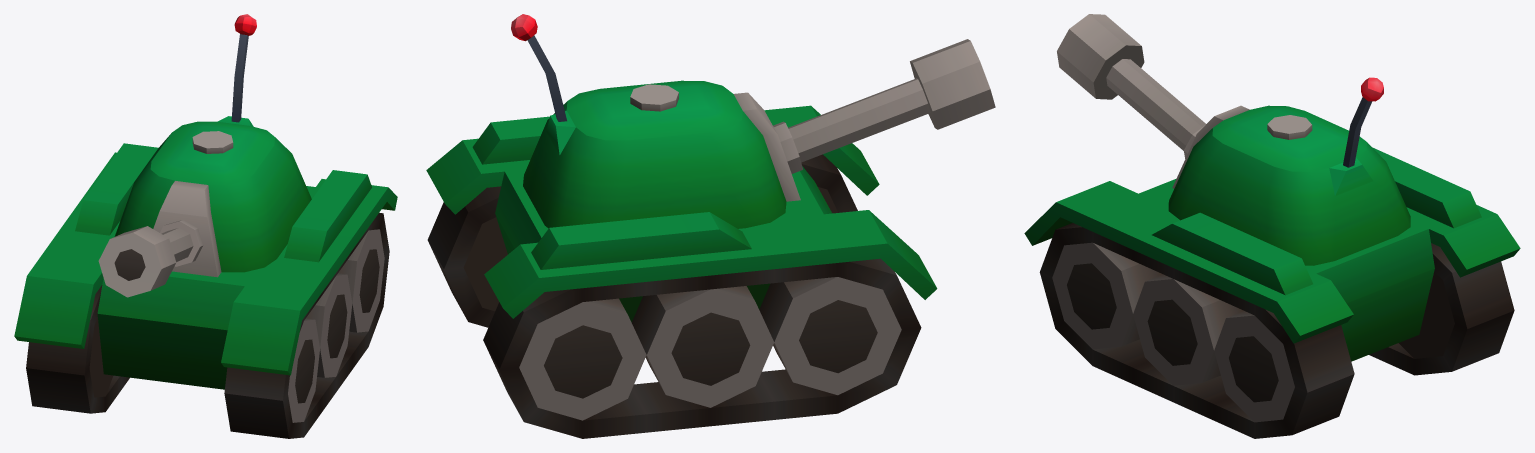
Rendered from Tank toy.fbx.
3 views of the same model, side by side, from view 1: azimuth 30°, elevation 25°; view 2: azimuth 150°, elevation 25°; view 3: azimuth 270°, elevation 25° (orthographic). The views are drawn at different scales.
Visible parts, largest first — view 1: Tank toy; view 2: Tank toy; view 3: Tank toy.
Part boxes in pixels (x1,y1,x2,y2): Tank toy: (14, 14, 397, 438); Tank toy: (426, 14, 995, 438); Tank toy: (1024, 14, 1520, 438).
Bounding box in the file's own units: 21.64 × 15.51 × 21.45.
1 material, 1 textured.
